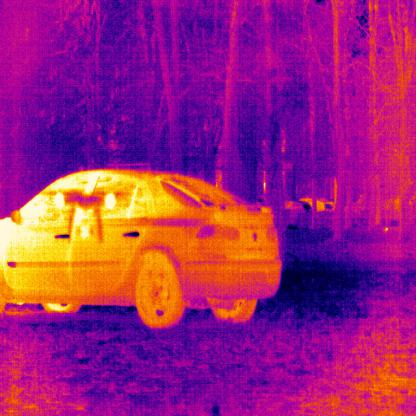drone: (55, 191, 115, 242)
